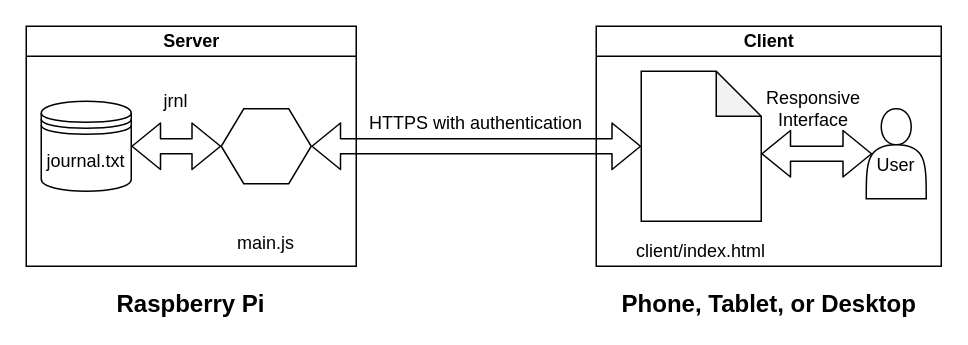
Image size: 968x345. Some labels were removed from this diagram. The box of each missing label's shape, as (x1, y1, x2, y2) in pixels:
node.js: (220, 107, 311, 184)
Web Browser: (640, 70, 761, 221)
